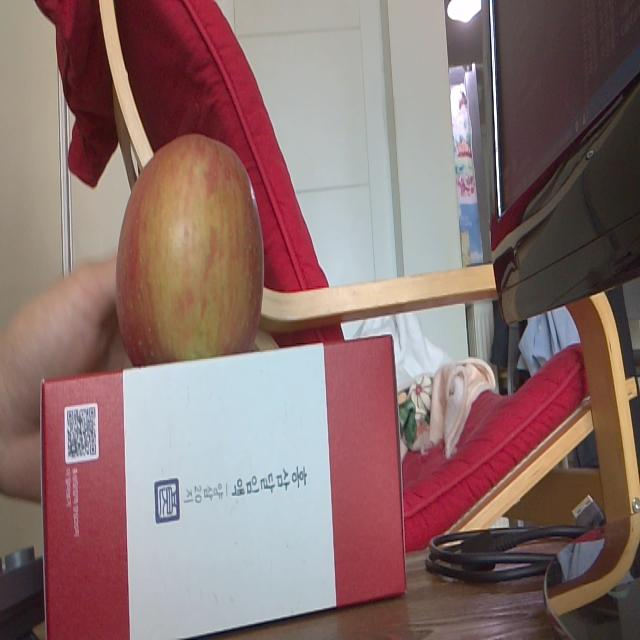apple: (114, 129, 266, 366)
